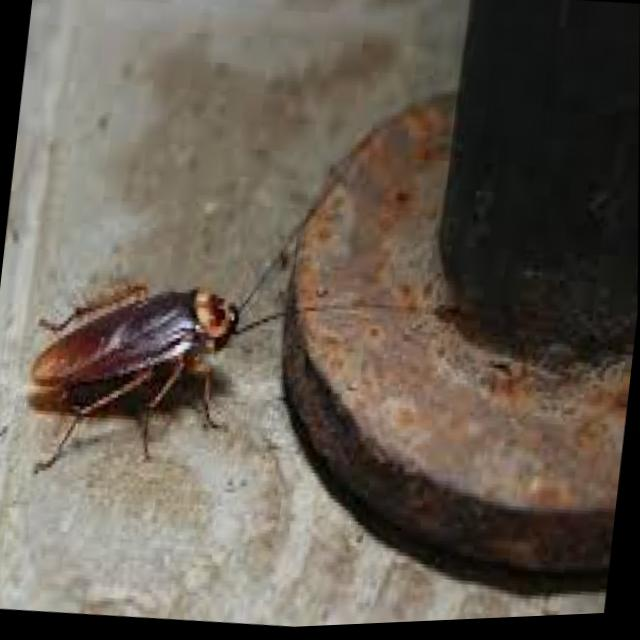Cockroach: (13, 71, 444, 523)
